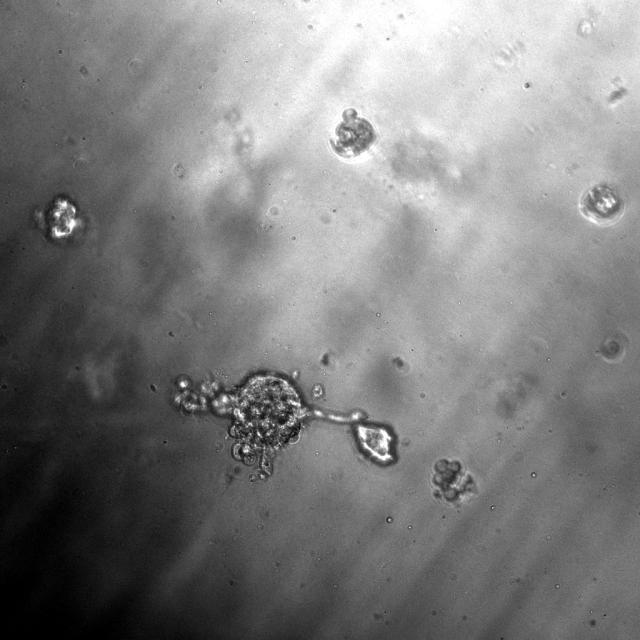organoid: (172, 370, 398, 482), (329, 108, 378, 163), (34, 194, 84, 243), (431, 458, 478, 505), (579, 182, 624, 227), (599, 339, 622, 360), (233, 465, 242, 475)
